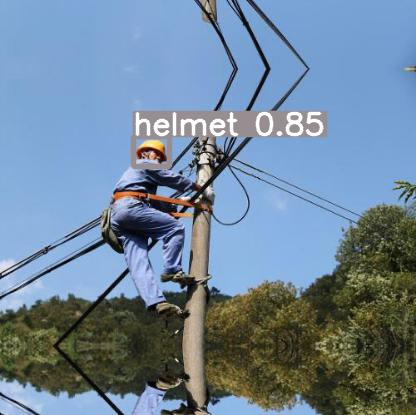helmet: (133, 136, 169, 166)
